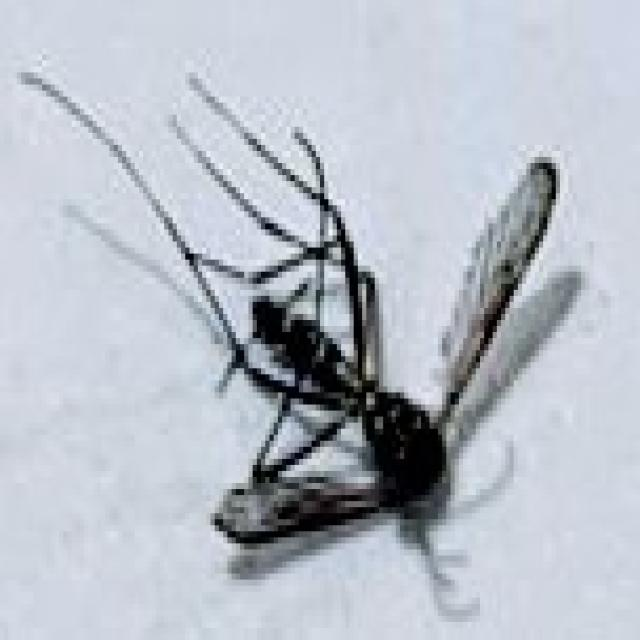albopictus: (118, 84, 568, 592)
